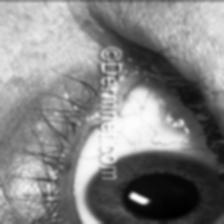Potentially Malignant Skin Tumors: (90, 96, 120, 124)
